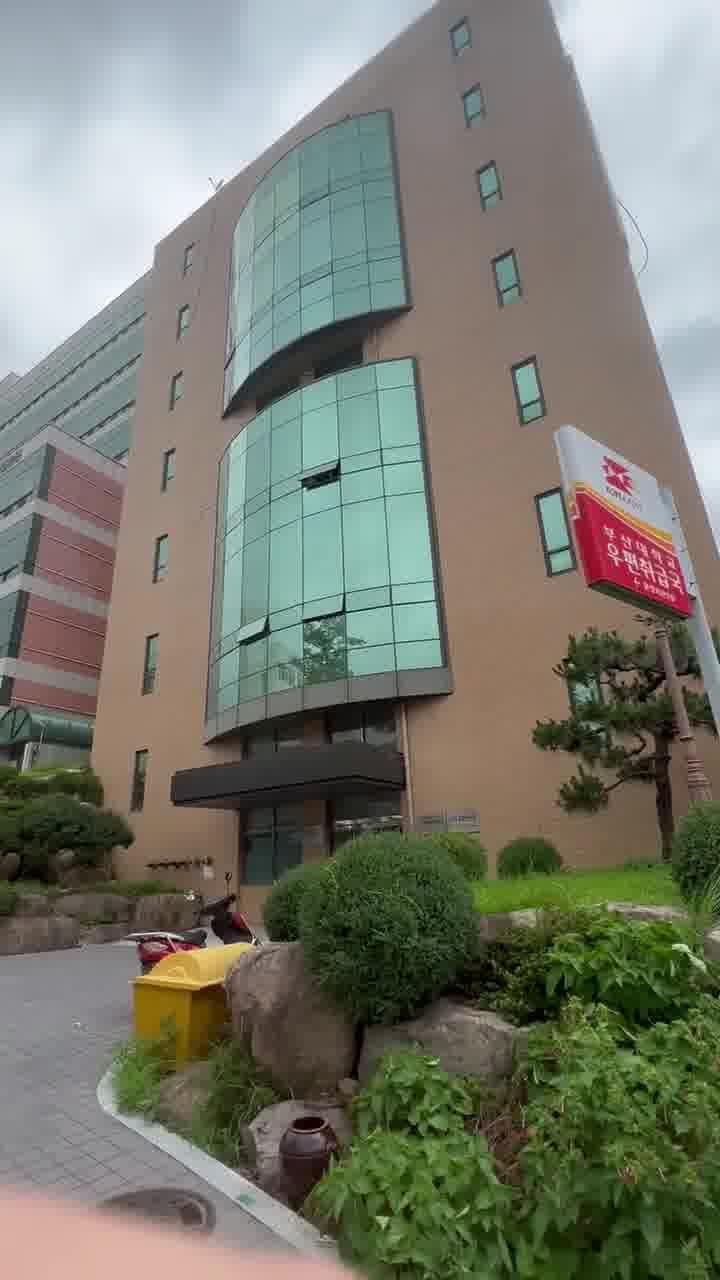building: (118, 78, 560, 798)
